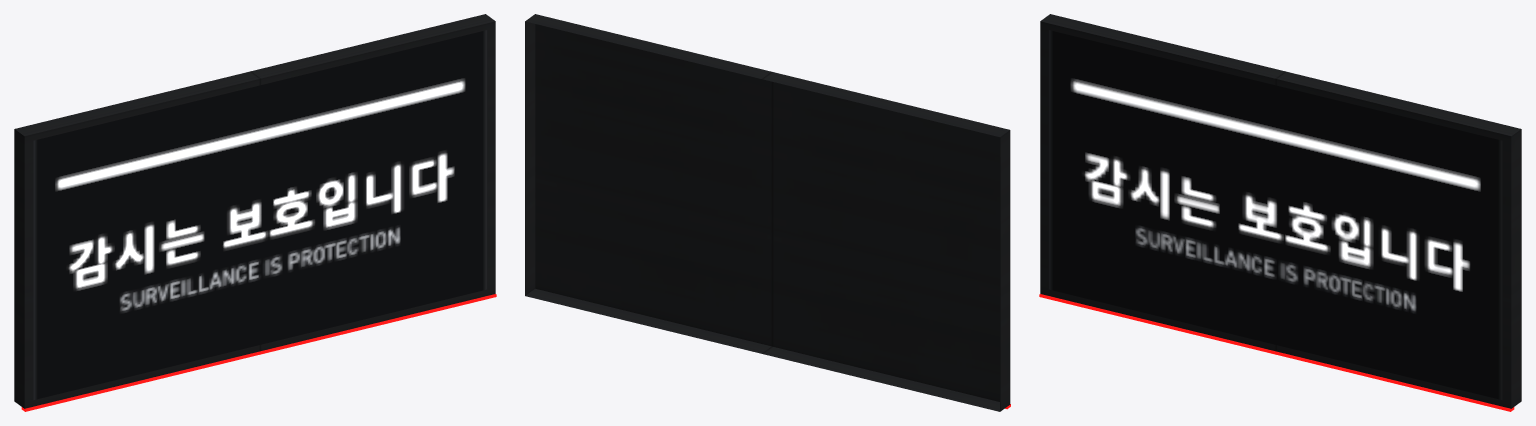
Rendered from SM_LFD_SloganLightbox_1.fbx.
3 views of the same model, side by side, from view 1: azimuth 30°, elevation 25°; view 2: azimuth 150°, elevation 25°; view 3: azimuth 330°, elevation 25° (orthographic).
Visible parts, largest first — view 1: SM_LFD_SloganLightbox_1; view 2: SM_LFD_SloganLightbox_1; view 3: SM_LFD_SloganLightbox_1.
Part boxes in pixels (left/top/right/bottom): SM_LFD_SloganLightbox_1: left=14, top=14, right=496, bottom=411; SM_LFD_SloganLightbox_1: left=525, top=14, right=1010, bottom=411; SM_LFD_SloganLightbox_1: left=1039, top=14, right=1521, bottom=411.
Size of the model in its own units: 3.8 by 2.12 by 0.15.
